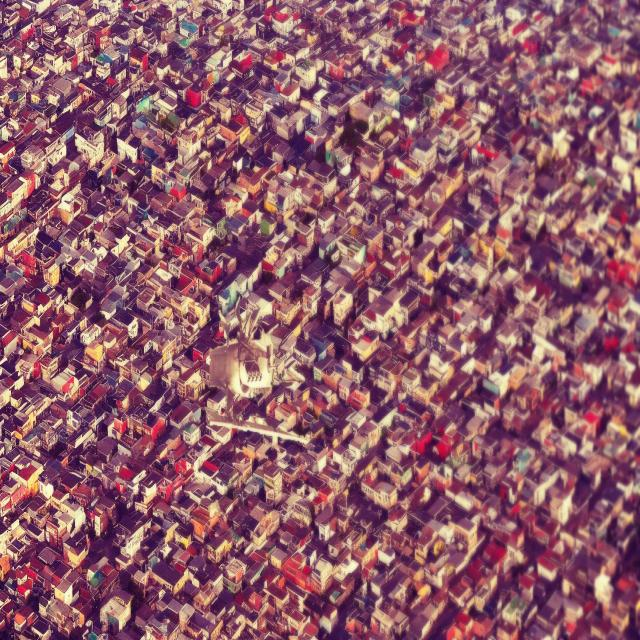airplane: (209, 295, 310, 445)
